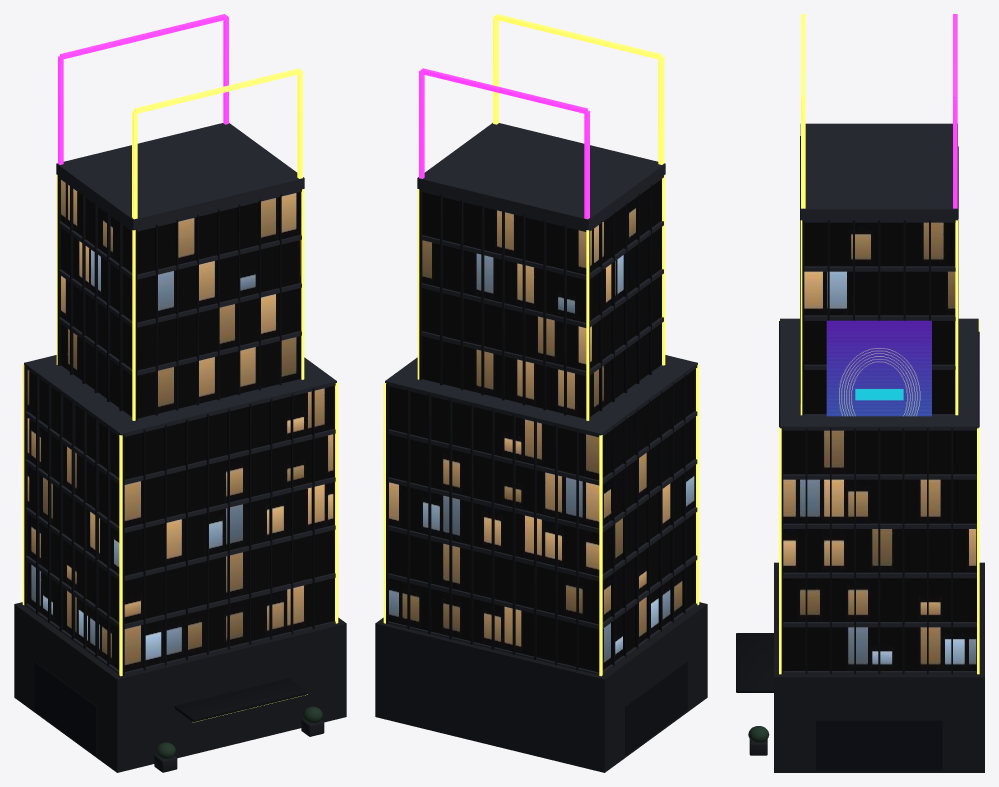
The model's file is neon-v-F.glb.
3 renders of one model, left to right at view 1: azimuth 30°, elevation 25°; view 2: azimuth 150°, elevation 25°; view 3: azimuth 270°, elevation 25°, orthographic. The views are drawn at different scales.
Visible parts, largest first — view 1: Building; view 2: Building; view 3: Building.
Part boxes in pixels (x1,y1,x2,y2): Building: (14,14,346,772); Building: (375,14,707,772); Building: (736,14,984,772).
Size of the model in its own units: 18.1 by 48.35 by 16.5.
Materials: 9 (2 with a texture image).
